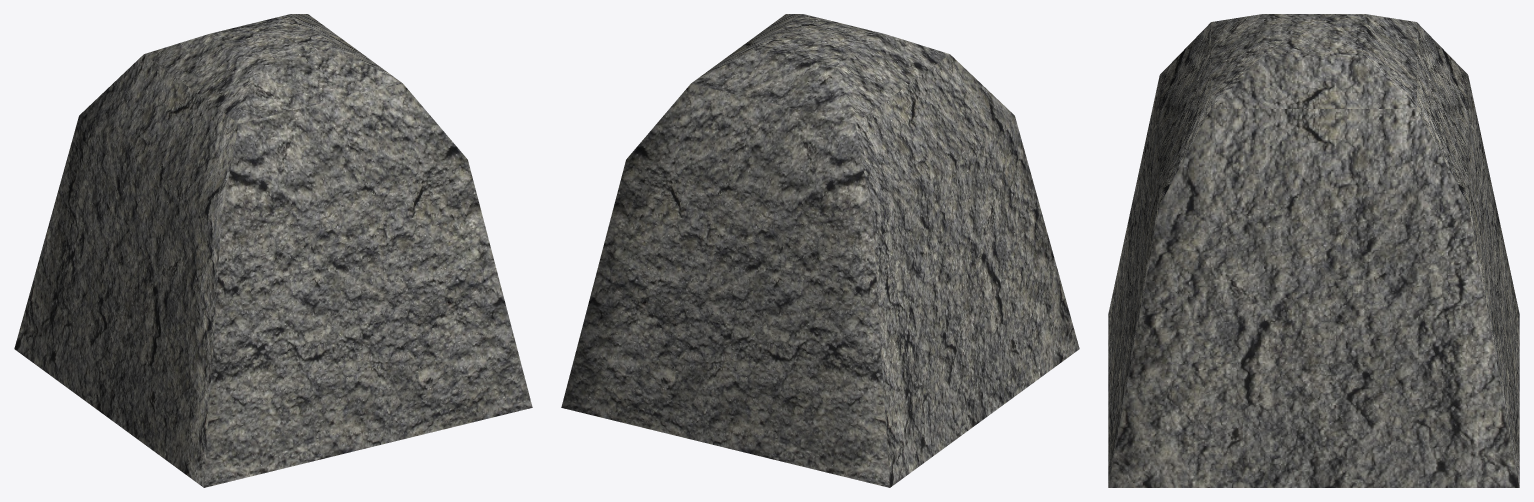
The model's file is Stone0a.obj.
The picture shows the model from 3 angles, left to right: view 1: azimuth 30°, elevation 25°; view 2: azimuth 150°, elevation 25°; view 3: azimuth 270°, elevation 25°; orthographic projection. The views are drawn at different scales.
Parts seen in each view (by area): view 1: Grid_Grid.003; view 2: Grid_Grid.003; view 3: Grid_Grid.003.
Boxes of the visible parts, <box> form: Grid_Grid.003: <box>14,14,532,487</box>; Grid_Grid.003: <box>561,14,1079,487</box>; Grid_Grid.003: <box>1108,14,1519,487</box>.
Size of the model in its own units: 1 by 1 by 1.
1 material, 1 textured.
